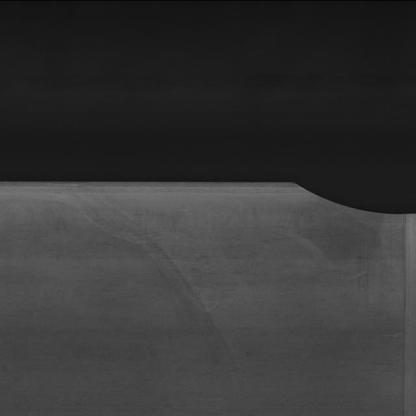crescent_gap: (273, 153, 416, 223)
welding_line: (391, 202, 416, 415)
